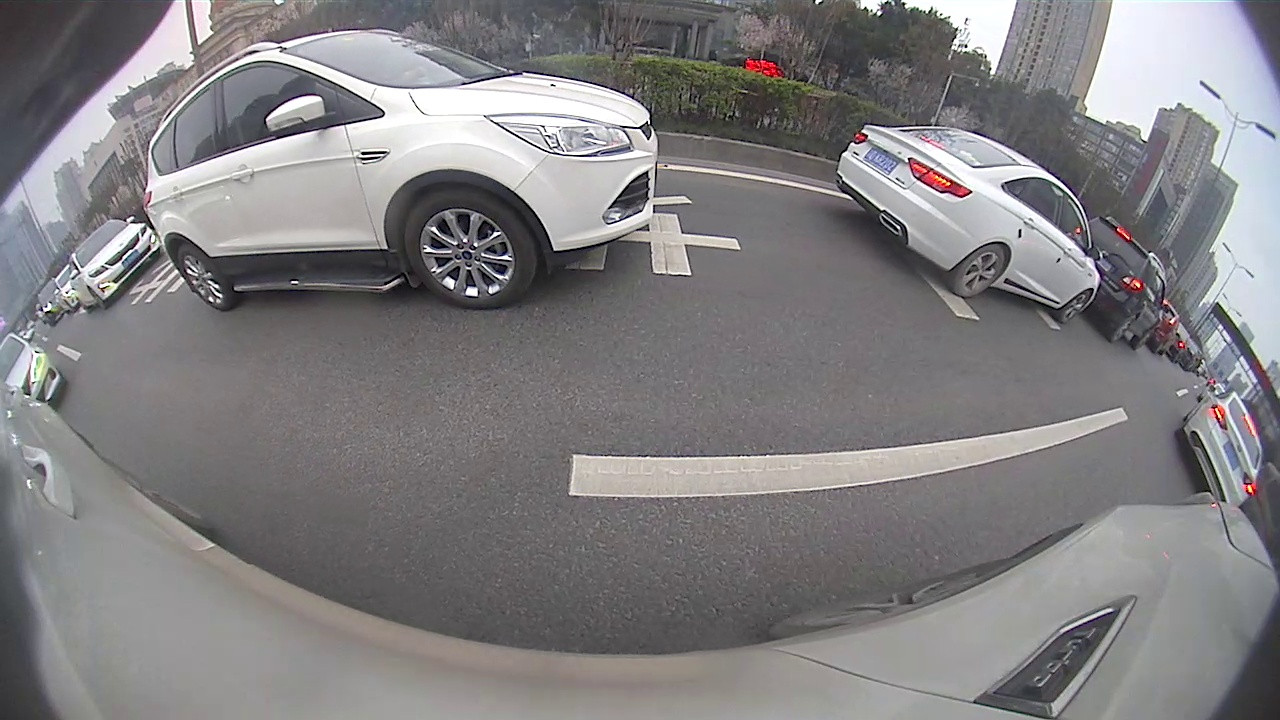car: (141, 28, 661, 311), (833, 122, 1101, 325), (1175, 389, 1264, 510), (1089, 217, 1169, 348), (66, 218, 163, 314), (2, 330, 63, 401)
front: (403, 183, 536, 312), (1053, 288, 1093, 323)
rear: (175, 243, 235, 313), (953, 243, 1007, 299)
